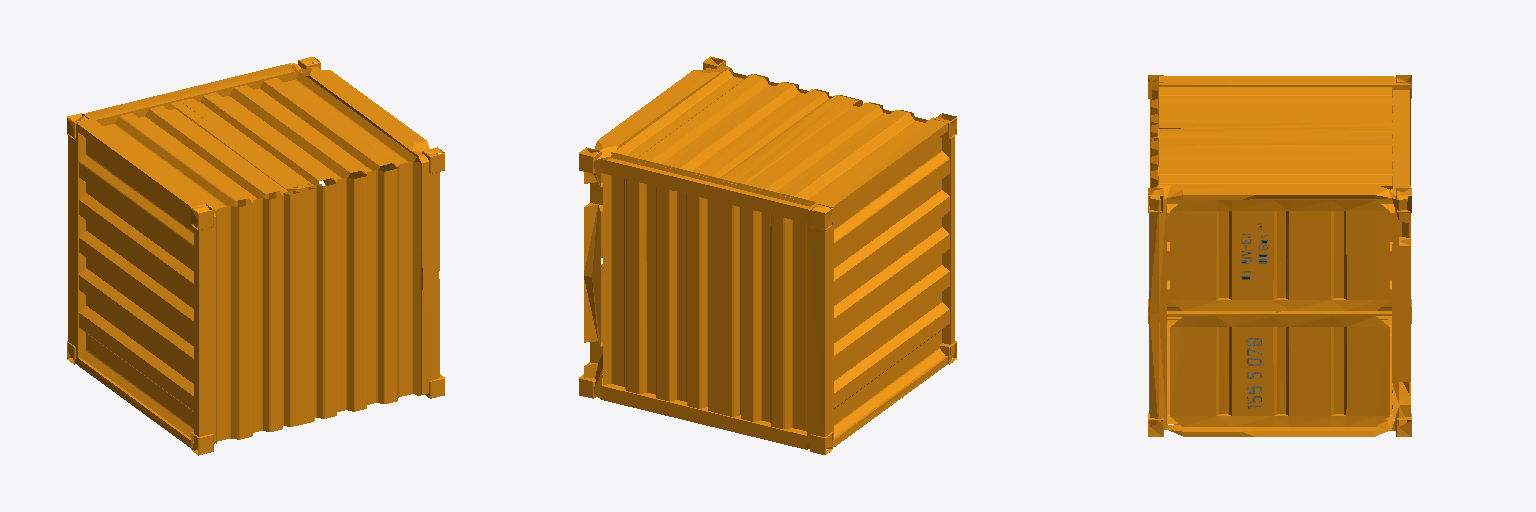
3 views of the same model, side by side, from view 1: azimuth 30°, elevation 25°; view 2: azimuth 150°, elevation 25°; view 3: azimuth 270°, elevation 25° (orthographic).
Visible parts, largest first — view 1: container; view 2: container; view 3: container.
Part boxes in pixels (left/top/right/bottom): container: left=67, top=57, right=444, bottom=455; container: left=579, top=56, right=956, bottom=454; container: left=1148, top=75, right=1411, bottom=436.
Bounding box in the file's own units: 317 × 297 × 294.
Materials: 1 (1 with a texture image).